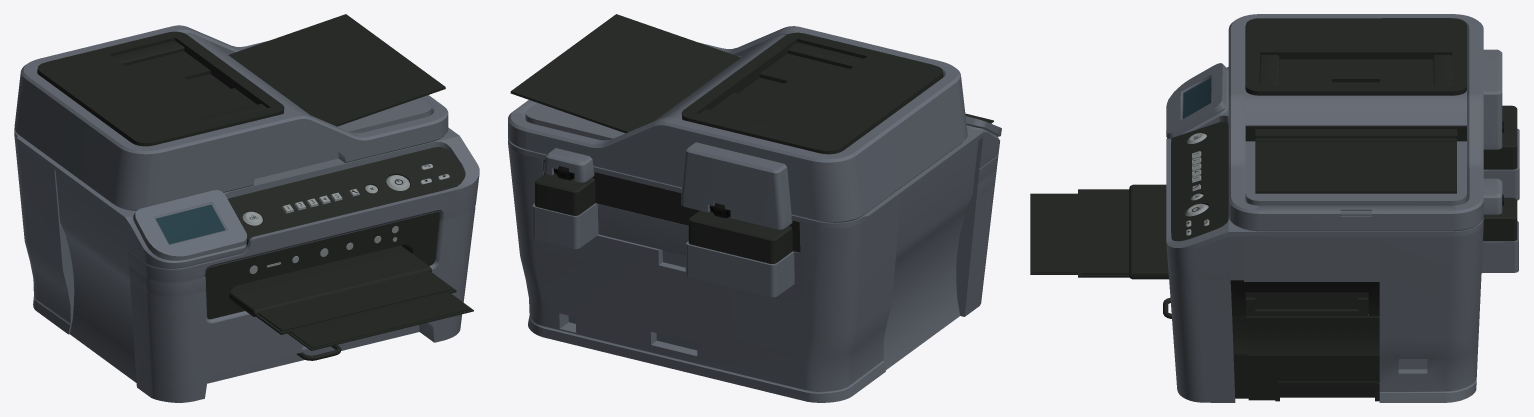
File: printerscanner.fbx
3 views of the same model, side by side, from view 1: azimuth 30°, elevation 25°; view 2: azimuth 150°, elevation 25°; view 3: azimuth 270°, elevation 25° (orthographic). The views are drawn at different scales.
Parts seen in each view (by area): view 1: node_id5; view 2: node_id5; view 3: node_id5.
Boxes of the visible parts, x1,y1,x2,y2 form: node_id5: (14,14,479,402); node_id5: (508,14,1001,402); node_id5: (1030,14,1519,402).
Bounding box in the file's own units: 0.512 × 0.3447 × 0.6401.
1 material, 1 textured.
